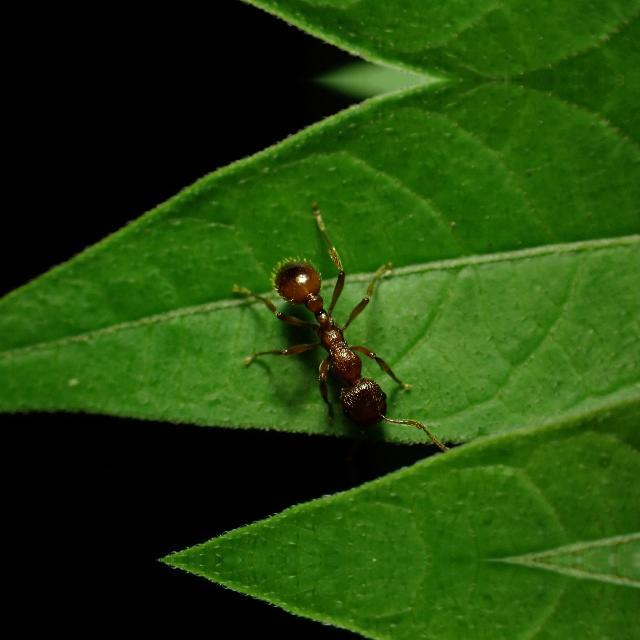Myrmica: (216, 238, 439, 442)
